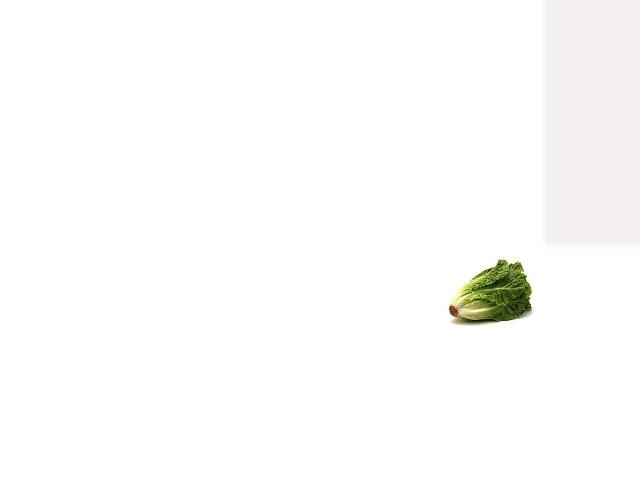lettuce: (445, 259, 531, 323)
